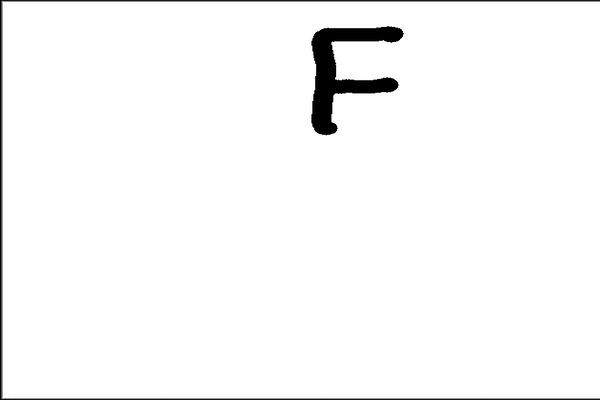F: (306, 22, 408, 136)
